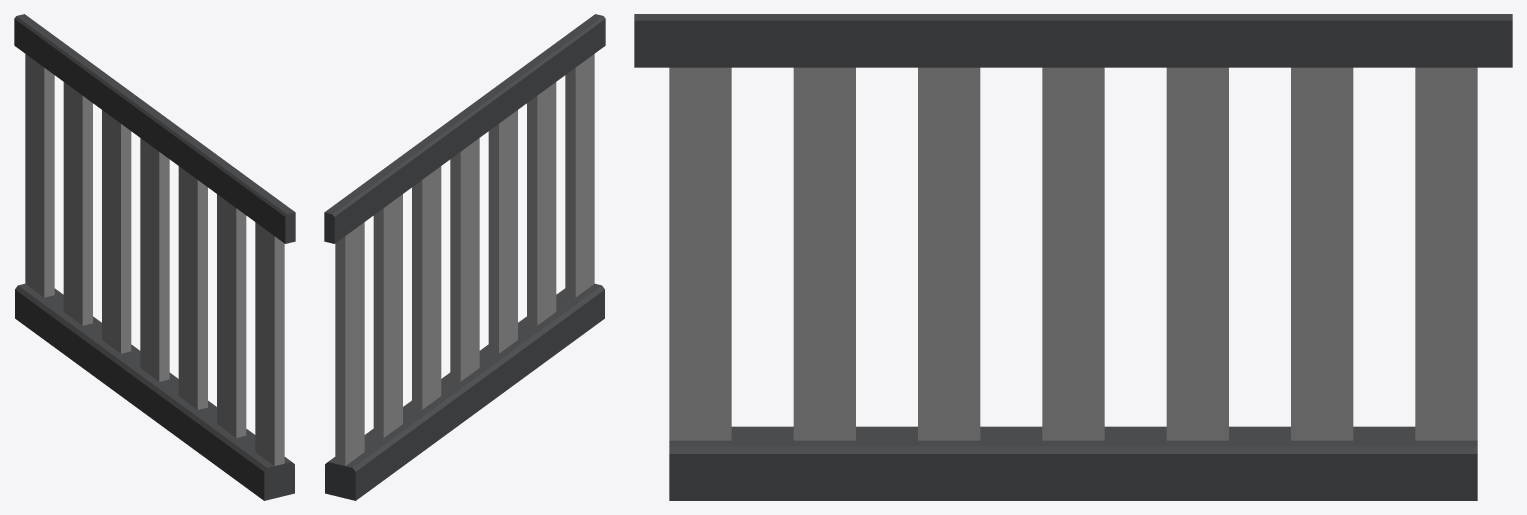
File: Fence Textured.FBX
The picture shows the model from 3 angles, left to right: view 1: azimuth 30°, elevation 25°; view 2: azimuth 150°, elevation 25°; view 3: azimuth 270°, elevation 25°; orthographic projection. The views are drawn at different scales.
Visible parts, largest first — view 1: Fence; view 2: Fence; view 3: Fence.
Part boxes in pixels (box(x1,y1,x2,y2)): Fence: box(14, 14, 295, 500); Fence: box(324, 14, 605, 500); Fence: box(634, 14, 1512, 500).
Size of the model in its own units: 0.9347 by 8.44 by 14.22.
2 materials, 1 textured.
